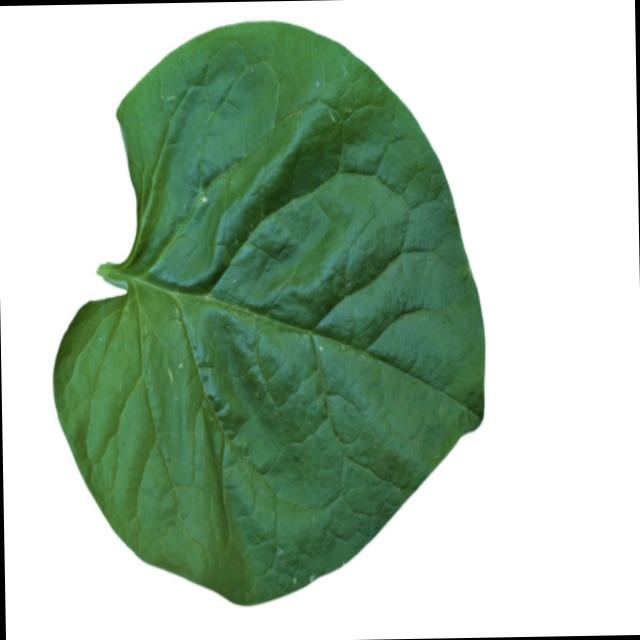Medicinal-Basale: (45, 12, 490, 610)
